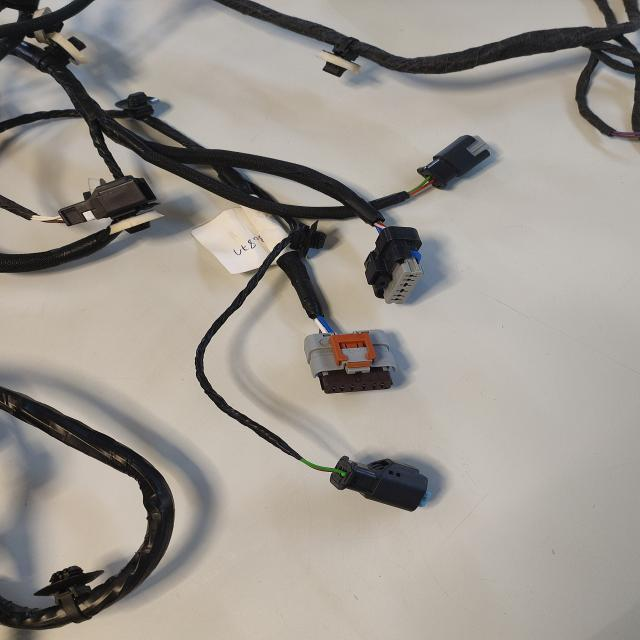cable: (0, 387, 174, 629), (174, 237, 335, 494), (214, 0, 639, 73), (275, 245, 324, 324)
clip: (31, 550, 107, 616), (31, 26, 89, 65), (315, 38, 363, 82), (112, 208, 164, 240), (115, 87, 158, 122)
connector: (327, 442, 432, 516), (305, 330, 396, 393), (416, 127, 494, 193), (364, 225, 421, 303)
label: (190, 184, 291, 285)
